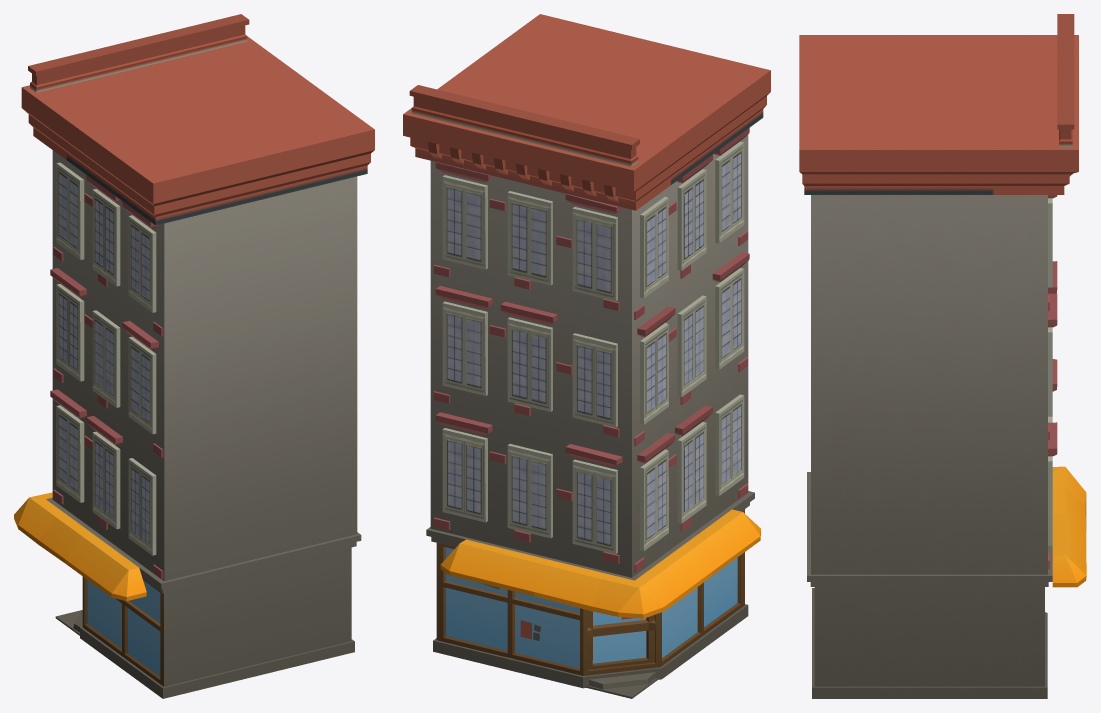
Rendered from BLD1210003.fbx.
3 renders of one model, left to right at view 1: azimuth 30°, elevation 25°; view 2: azimuth 150°, elevation 25°; view 3: azimuth 270°, elevation 25°, orthographic. The views are drawn at different scales.
Visible parts, largest first — view 1: smBLD1210003; view 2: smBLD1210003; view 3: smBLD1210003.
Boxes of the visible parts, bbox=[...] form: smBLD1210003: bbox=[14, 14, 374, 698]; smBLD1210003: bbox=[403, 14, 770, 698]; smBLD1210003: bbox=[799, 14, 1086, 698].
Size of the model in its own units: 800 by 1755 by 788.
Materials: 1 (1 with a texture image).
